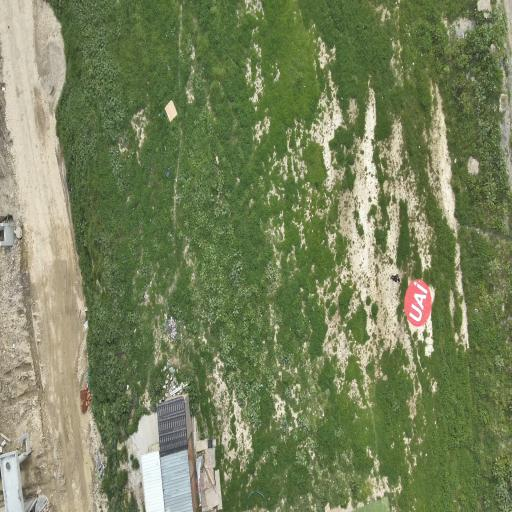UAI: (405, 280, 431, 326)
person: (391, 274, 399, 282)
